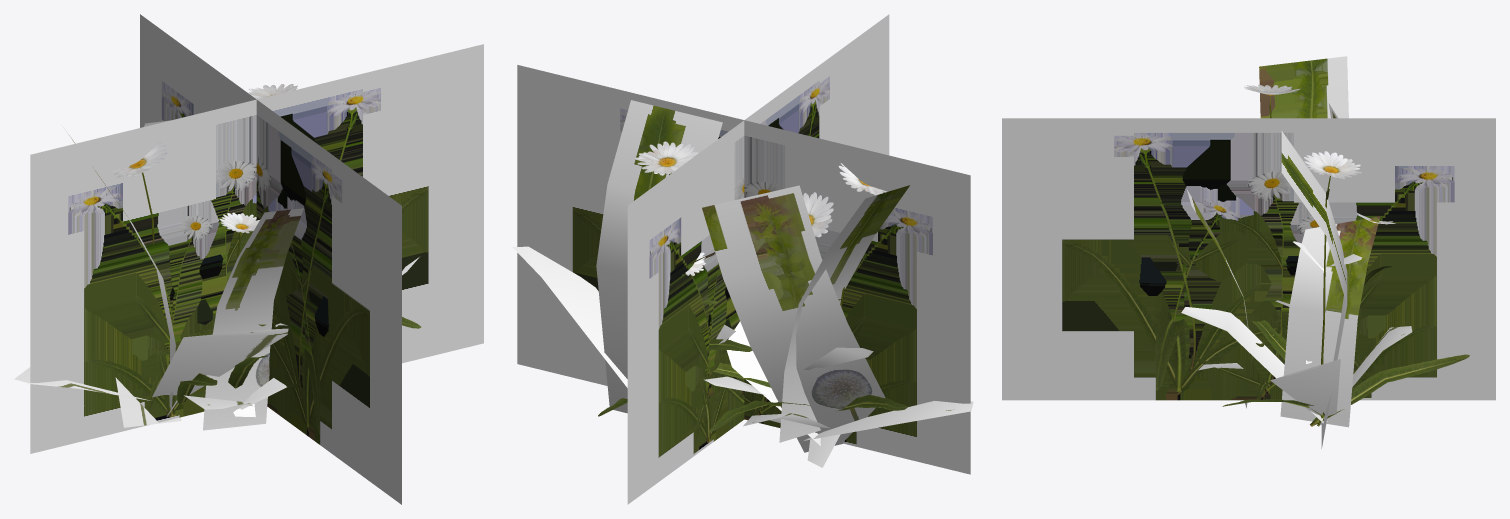
Rendered from MSH_Field_WhiteDaisy_A.fbx.
The picture shows the model from 3 angles, left to right: view 1: azimuth 30°, elevation 25°; view 2: azimuth 150°, elevation 25°; view 3: azimuth 270°, elevation 25°; orthographic projection. The views are drawn at different scales.
Visible parts, largest first — view 1: Field_WhiteDaisy_A_LOD2_GEO, Field_WhiteDaisy_A_LOD1_GEO, Field_WhiteDaisy_A_LOD0_GEO; view 2: Field_WhiteDaisy_A_LOD2_GEO, Field_WhiteDaisy_A_LOD1_GEO, Field_WhiteDaisy_A_LOD0_GEO; view 3: Field_WhiteDaisy_A_LOD2_GEO, Field_WhiteDaisy_A_LOD1_GEO, Field_WhiteDaisy_A_LOD0_GEO.
Boxes of the visible parts, x1,y1,x2,y2 form: Field_WhiteDaisy_A_LOD2_GEO: [30, 14, 483, 504]; Field_WhiteDaisy_A_LOD1_GEO: [14, 120, 419, 430]; Field_WhiteDaisy_A_LOD0_GEO: [110, 84, 421, 404]; Field_WhiteDaisy_A_LOD2_GEO: [517, 14, 970, 504]; Field_WhiteDaisy_A_LOD1_GEO: [512, 100, 973, 467]; Field_WhiteDaisy_A_LOD0_GEO: [598, 141, 907, 432]; Field_WhiteDaisy_A_LOD2_GEO: [1002, 118, 1495, 400]; Field_WhiteDaisy_A_LOD1_GEO: [1181, 56, 1412, 448]; Field_WhiteDaisy_A_LOD0_GEO: [1222, 84, 1469, 426].
Size of the model in its own units: 71.59 by 46.14 by 70.29.
